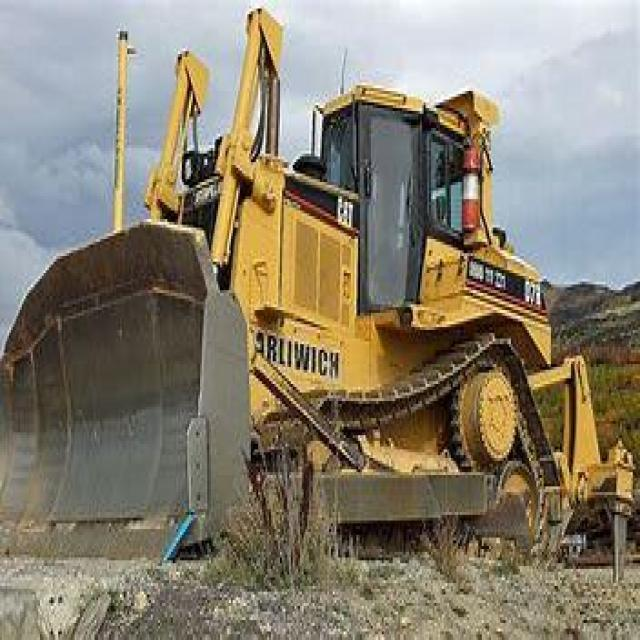Bulldozer: (6, 14, 624, 580)
